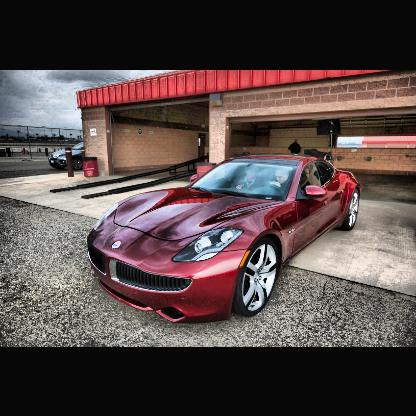Fisker Karma Sedan 2012: (87, 154, 361, 325)
